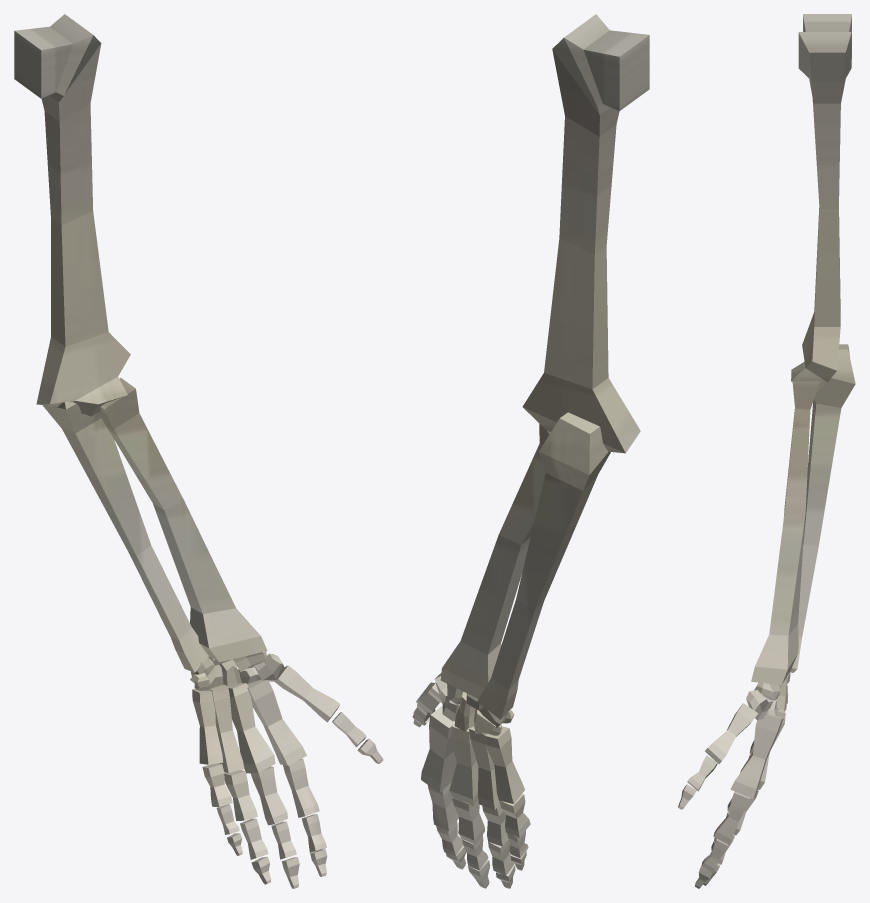
Rendered from skeleHand.fbx.
3 views of the same model, side by side, from view 1: azimuth 30°, elevation 25°; view 2: azimuth 150°, elevation 25°; view 3: azimuth 270°, elevation 25° (orthographic). The views are drawn at different scales.
Parts seen in each view (by area): view 1: BONES_ARM.L.001; view 2: BONES_ARM.L.001; view 3: BONES_ARM.L.001.
Boxes of the visible parts, box(x1,y1,x2,y2) form: BONES_ARM.L.001: box(14, 14, 383, 888); BONES_ARM.L.001: box(412, 14, 649, 888); BONES_ARM.L.001: box(678, 14, 855, 888).
Bounding box in the file's own units: 436 × 1291 × 264.
Materials: 1 (1 with a texture image).
